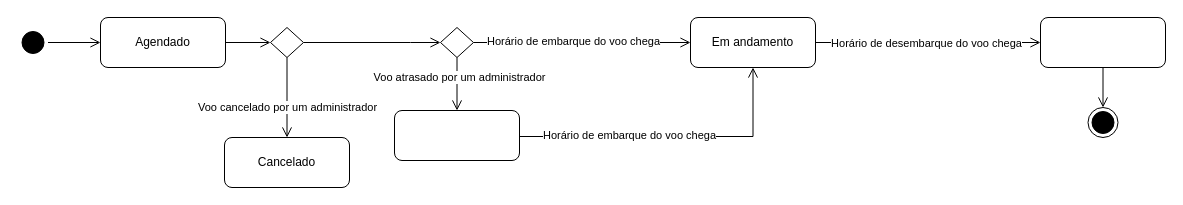
Some shapes in this 1183 by 205 pixel diagram are drawn without their labels. The centre of each missing label's shape, as x and y in pixels:
"Atrasado" belongs at [457,135].
"Finalizado" belongs at [1103,42].
